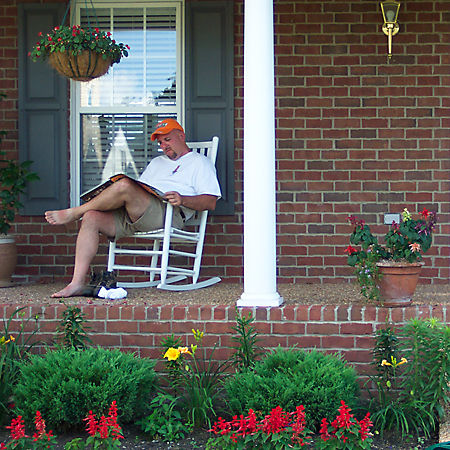person: (45, 120, 222, 299)
